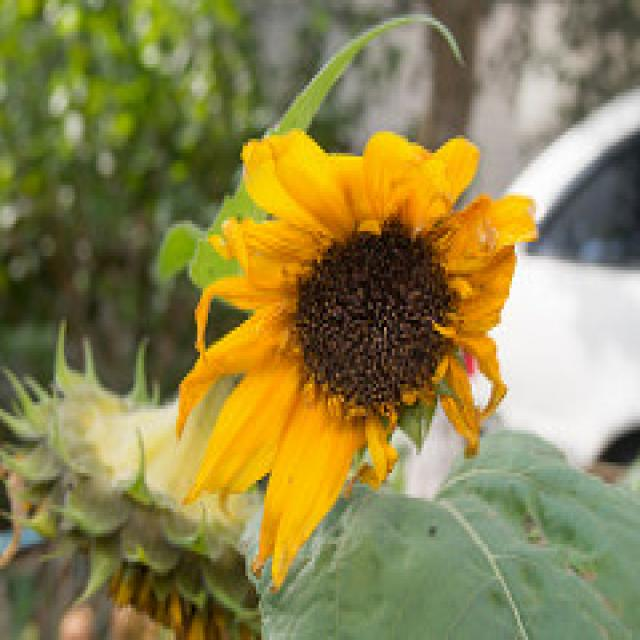sunflower: (172, 126, 540, 599)
